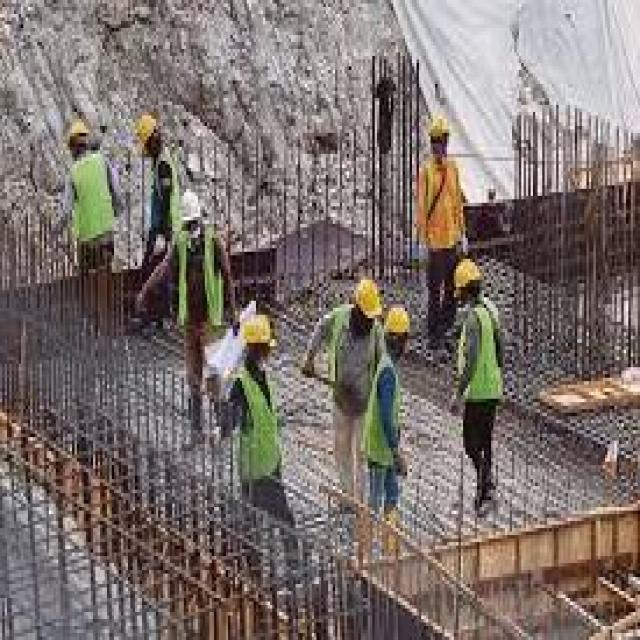reflective_jacket: (225, 363, 298, 496), (167, 224, 235, 350), (358, 353, 416, 472), (62, 150, 121, 258), (453, 300, 509, 412), (414, 154, 467, 259), (144, 147, 190, 238)
safety_helmet: (230, 297, 283, 363), (346, 269, 386, 328), (130, 104, 165, 157), (449, 255, 486, 300), (381, 297, 414, 346), (176, 185, 207, 230), (62, 112, 95, 154), (423, 105, 453, 147)
